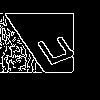F: (25, 25, 96, 73)
